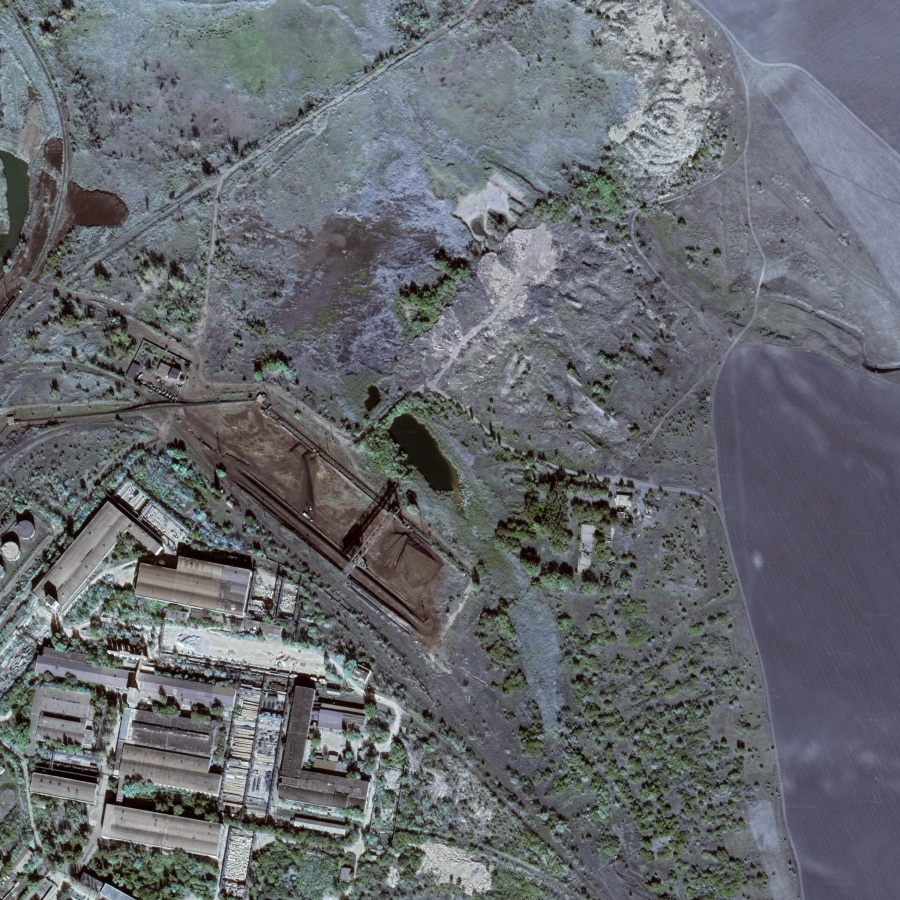PowerPlant: (159, 383, 449, 636)
